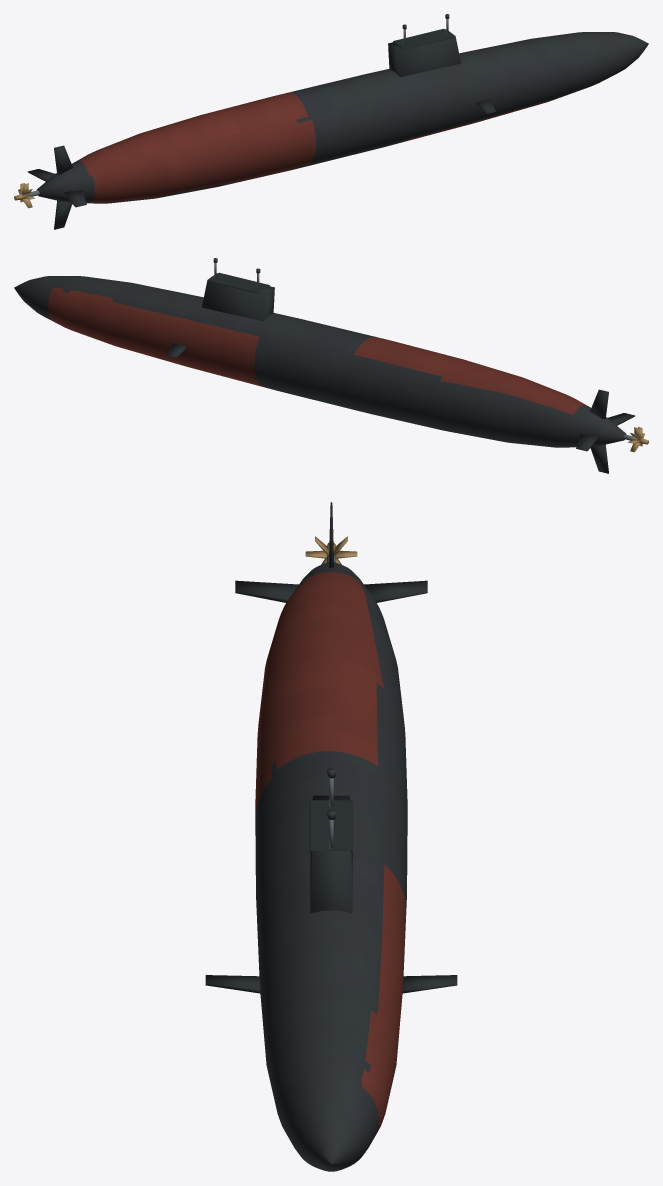
Rendered from CN_SSN_Type091_LOD2.fbx.
3 views of the same model, one above another, from view 1: azimuth 30°, elevation 25°; view 2: azimuth 150°, elevation 25°; view 3: azimuth 270°, elevation 25° (orthographic). The views are drawn at different scales.
Parts seen in each view (by area): view 1: CN_SSN_Type091_LOD2; view 2: CN_SSN_Type091_LOD2; view 3: CN_SSN_Type091_LOD2.
Part boxes in pixels (x1=…): CN_SSN_Type091_LOD2: x1=14, y1=14, x2=648, y2=229; CN_SSN_Type091_LOD2: x1=14, y1=258, x2=648, y2=473; CN_SSN_Type091_LOD2: x1=205, y1=502, x2=457, y2=1171.
Size of the model in its own units: 102 by 17.47 by 18.23.
Materials: 6 (1 with a texture image).
